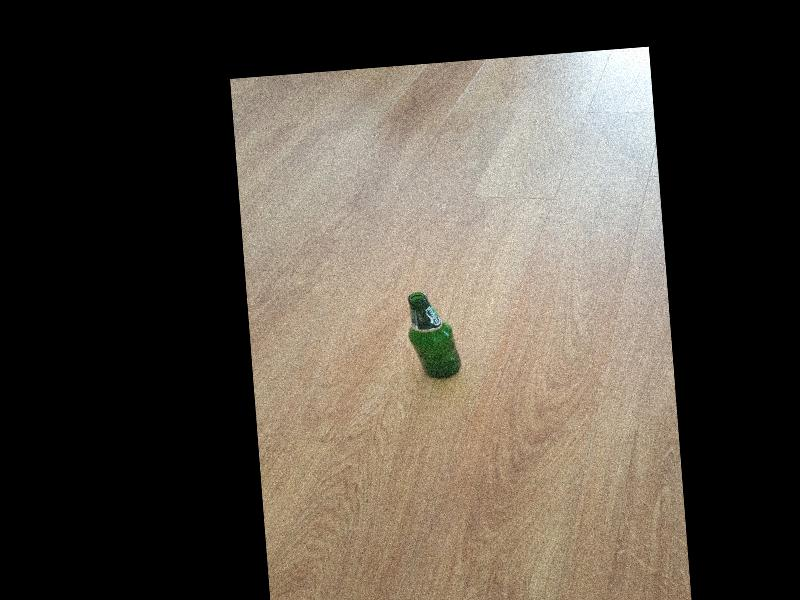Beer: (404, 288, 462, 381)
